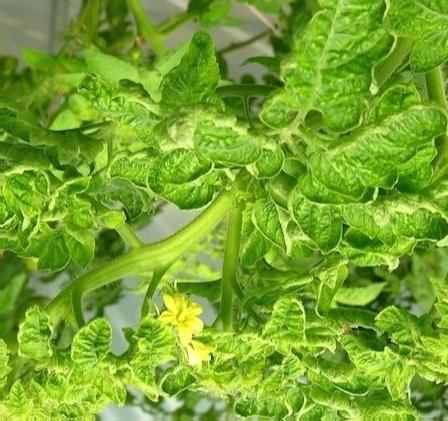Tomato leaf yellow virus: (117, 108, 286, 213), (269, 0, 387, 139), (287, 165, 448, 259), (317, 91, 448, 198), (190, 275, 337, 365), (151, 26, 238, 126), (104, 315, 179, 404), (335, 324, 427, 388), (0, 164, 54, 236), (241, 197, 305, 252), (10, 297, 58, 370), (65, 307, 119, 368)
